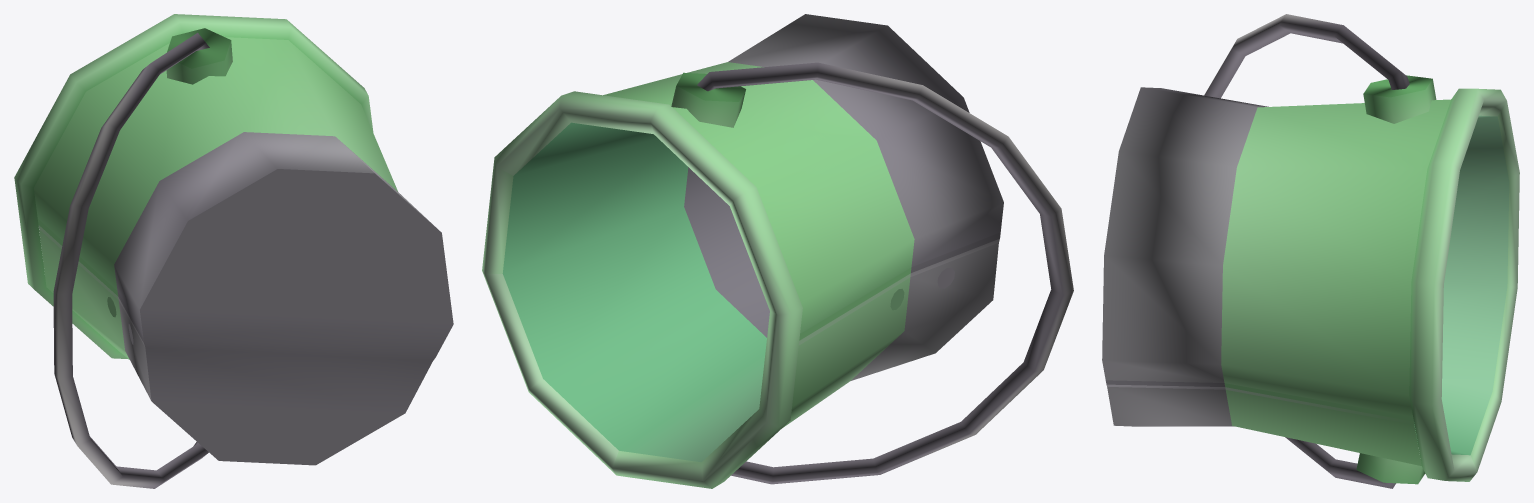
The model's file is fishBucket_bucketGreen.glb.
3 renders of one model, left to right at view 1: azimuth 30°, elevation 25°; view 2: azimuth 150°, elevation 25°; view 3: azimuth 270°, elevation 25°, orthographic. The views are drawn at different scales.
Visible parts, largest first — view 1: fishBucket_bucketGreen; view 2: fishBucket_bucketGreen; view 3: fishBucket_bucketGreen.
Boxes of the visible parts, left/top/right/bottom form: fishBucket_bucketGreen: left=14, top=14, right=453, bottom=488; fishBucket_bucketGreen: left=482, top=14, right=1073, bottom=488; fishBucket_bucketGreen: left=1102, top=14, right=1519, bottom=488.
Size of the model in its own units: 0.4667 by 0.4161 by 0.3677.
